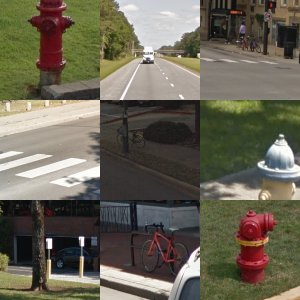公車: (118, 114, 162, 154), (161, 249, 201, 271)
樓梯: (205, 102, 299, 199)
汽車: (20, 115, 101, 200)
紅綠燈: (154, 9, 183, 41)
